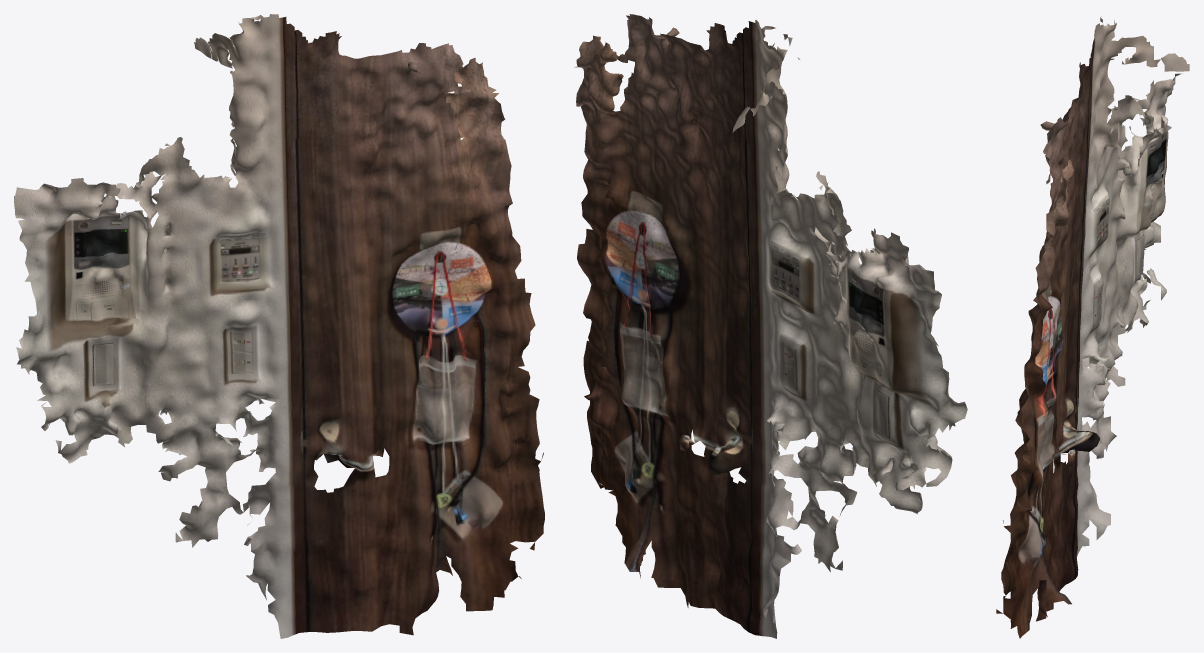
File: 72982-myaonRoomBack-tex.glb
3 views of the same model, side by side, from view 1: azimuth 30°, elevation 25°; view 2: azimuth 150°, elevation 25°; view 3: azimuth 270°, elevation 25° (orthographic). The views are drawn at different scales.
Parts seen in each view (by area): view 1: Node; view 2: Node; view 3: Node.
Part boxes in pixels (x1=…): Node: x1=14, y1=14, x2=544, y2=638; Node: x1=574, y1=14, x2=967, y2=638; Node: x1=996, y1=16, x2=1189, y2=638.
Size of the model in its own units: 1.33 by 1.77 by 0.5608.
1 material, 1 textured.
